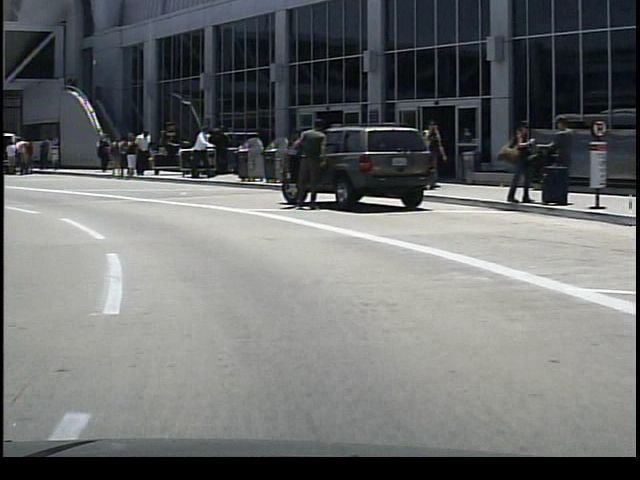person: (288, 117, 325, 218), (538, 113, 576, 204), (499, 115, 534, 205), (416, 118, 451, 192), (188, 122, 212, 182), (117, 131, 137, 181), (31, 130, 52, 177), (133, 126, 149, 179), (13, 132, 32, 176), (89, 131, 108, 175)
